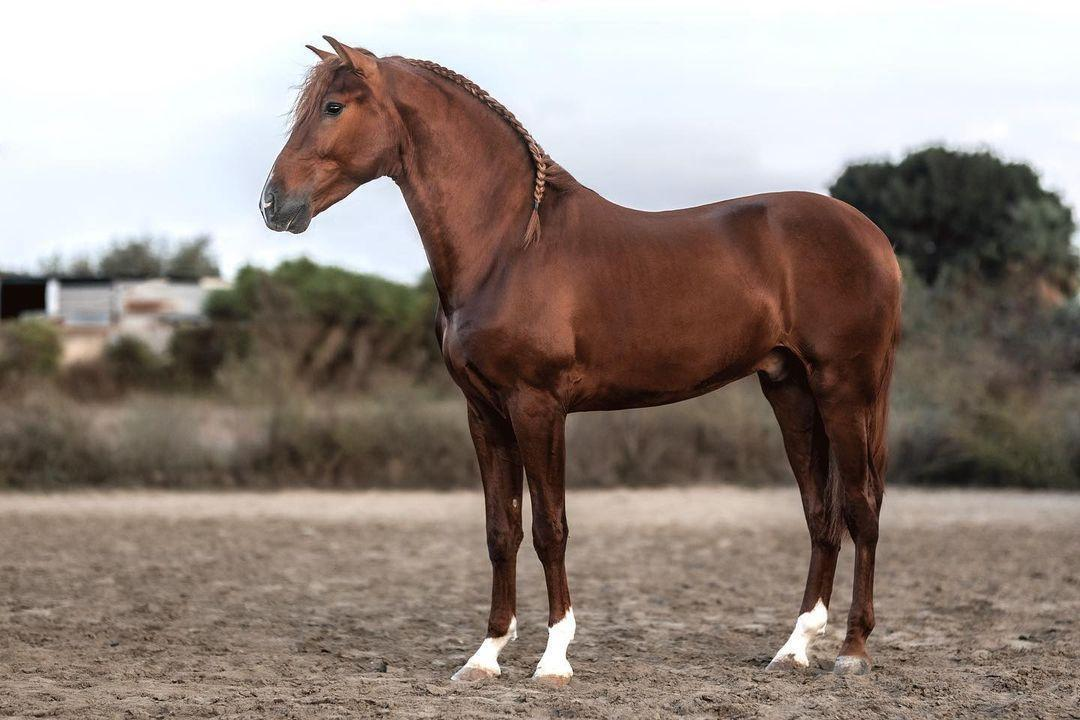horse: (258, 33, 904, 686)
